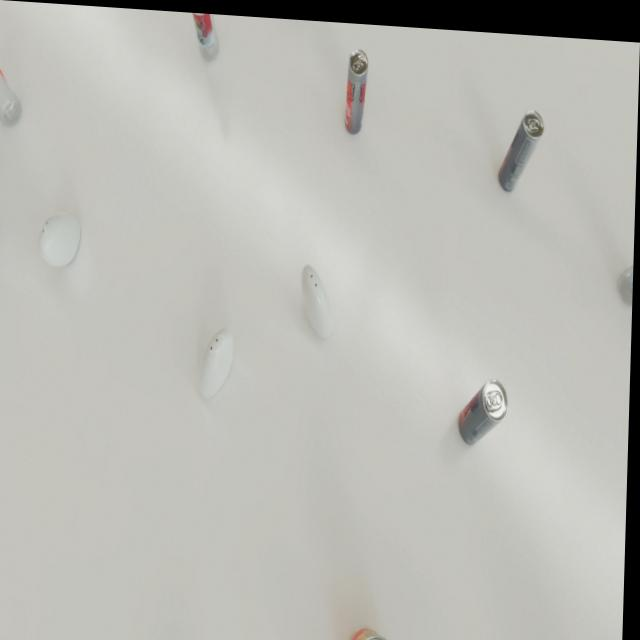Bottle: (176, 9, 220, 59)
Rita_zero_sugar: (499, 100, 545, 187), (461, 370, 511, 440), (345, 43, 369, 130)
Salt: (301, 260, 337, 334), (200, 323, 236, 396), (39, 210, 83, 267)
